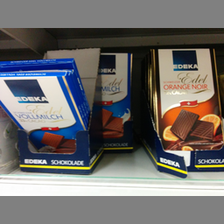chocolate: (151, 46, 224, 152), (1, 70, 88, 151)
